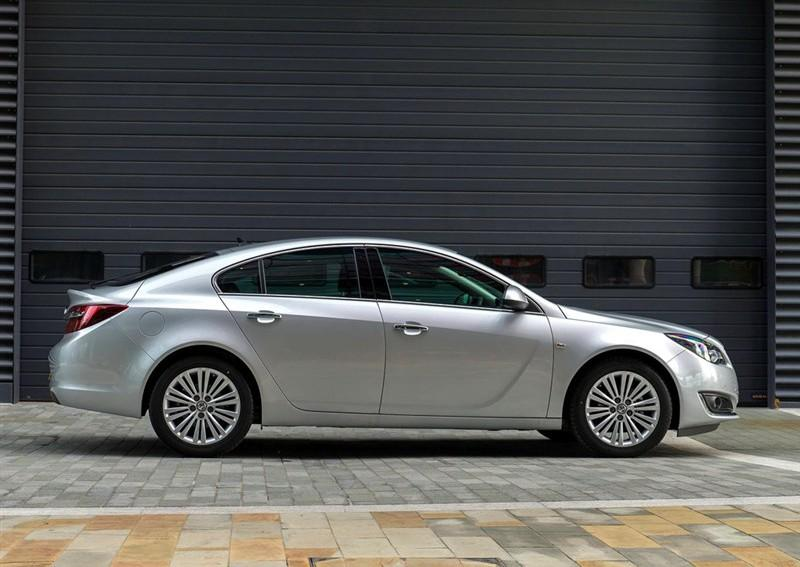Wagon: (48, 235, 739, 460)
